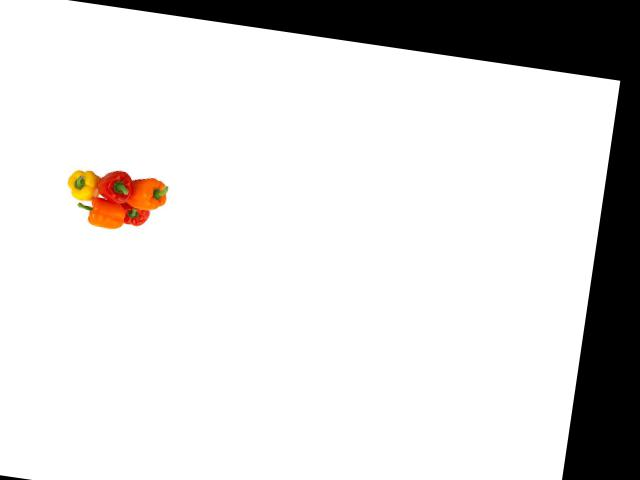bell_pepper: (124, 171, 178, 217)
